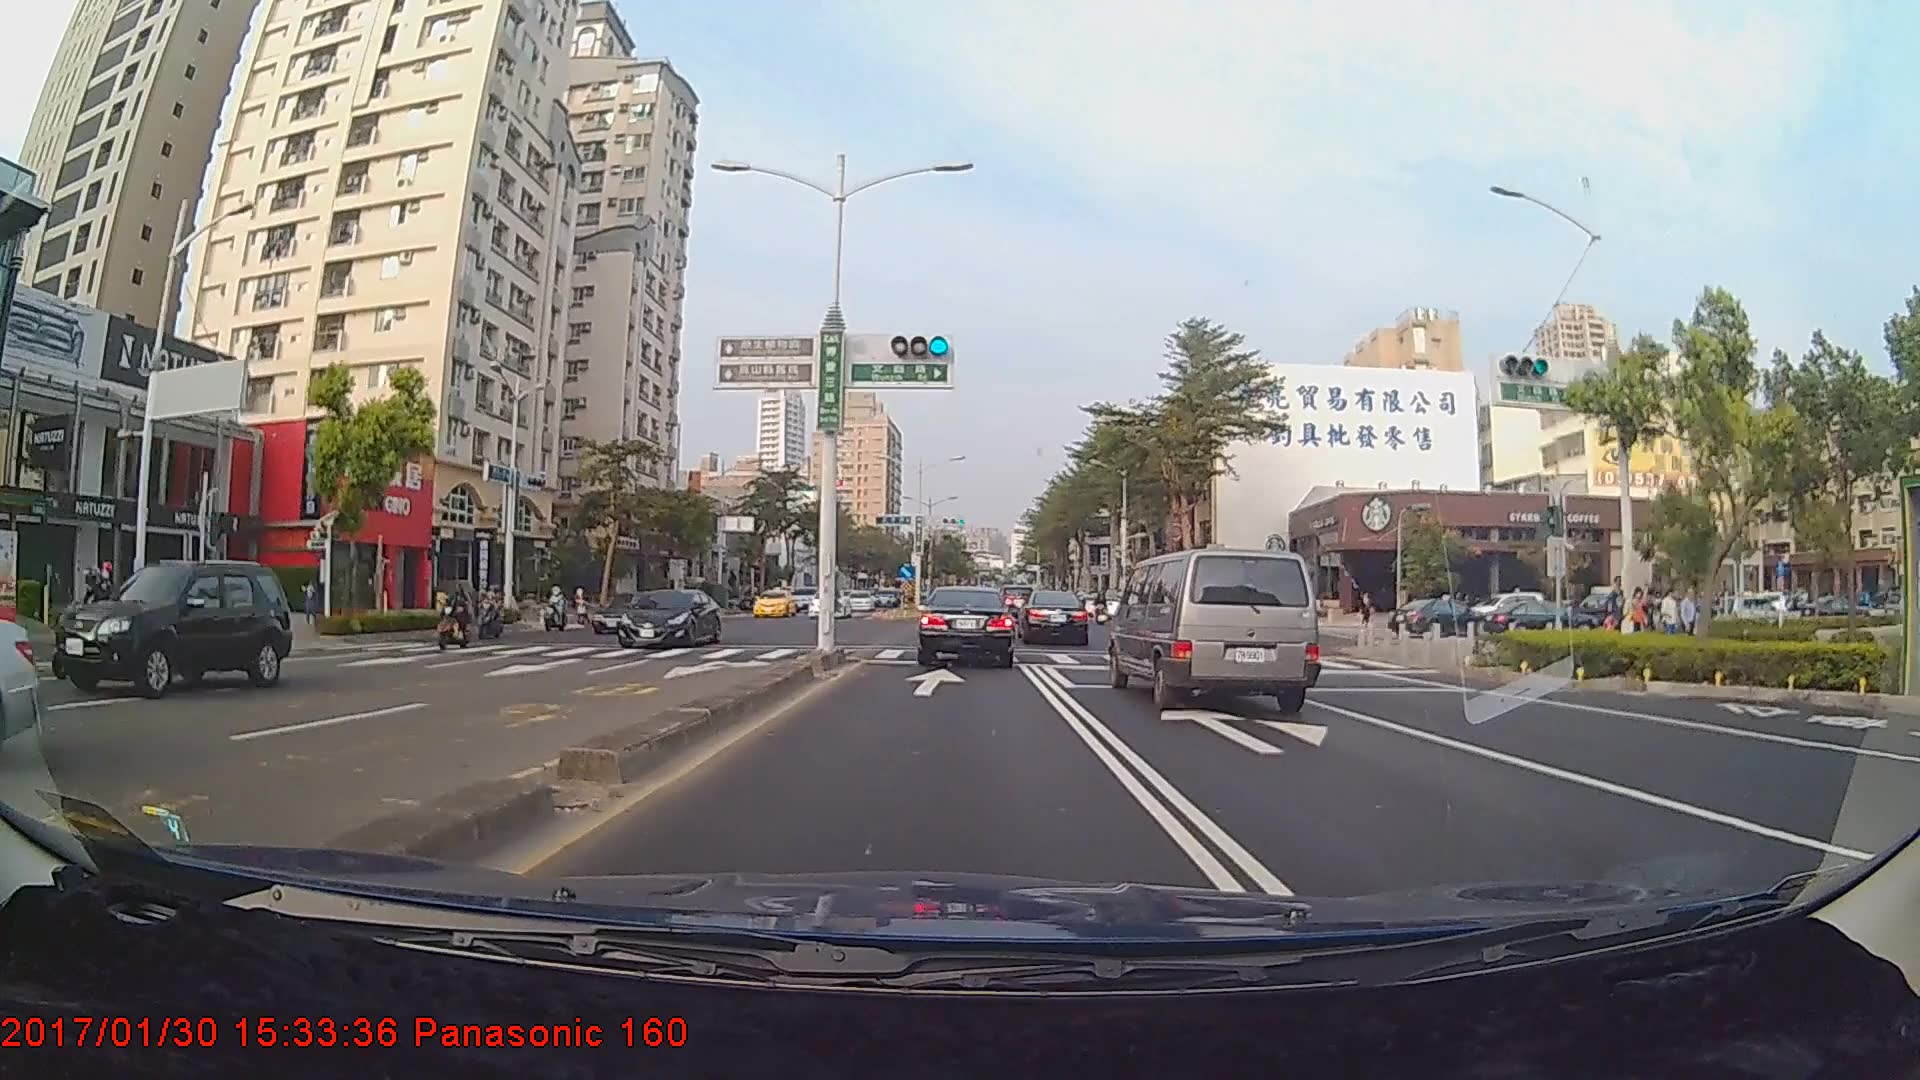pedestrian: (1678, 584, 1701, 649), (1661, 587, 1681, 646)
rider: (66, 555, 134, 654), (430, 578, 480, 656)
vehicle: (1107, 542, 1322, 713), (50, 557, 295, 699), (917, 586, 1015, 665), (612, 588, 722, 652), (1392, 595, 1474, 641), (589, 587, 672, 631), (1021, 591, 1089, 645), (804, 585, 855, 618), (750, 586, 797, 617), (844, 590, 875, 613)
